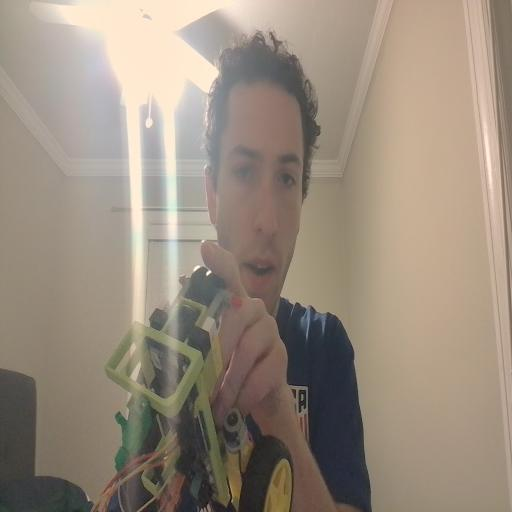green LEGO minifig: (112, 390, 153, 479)
